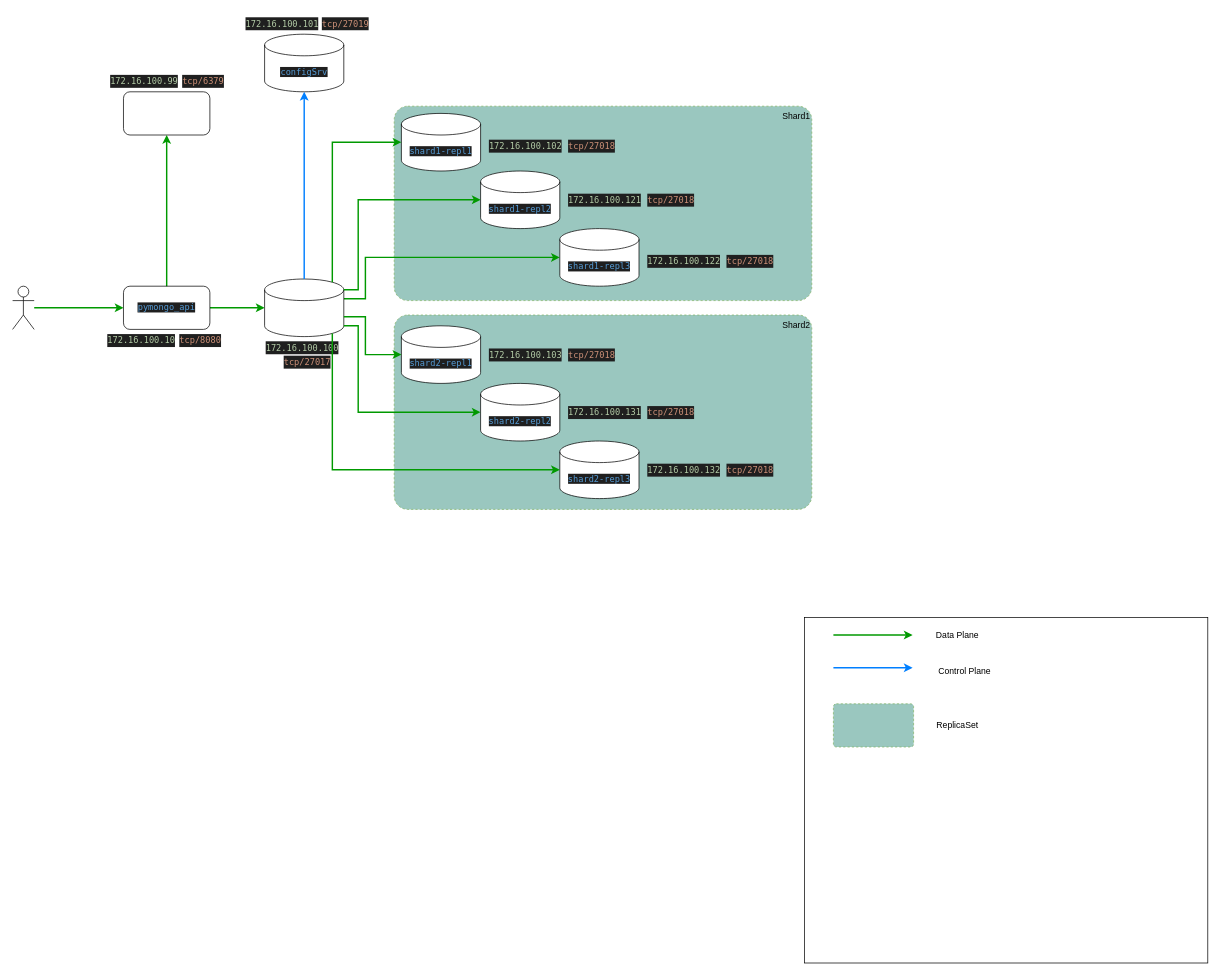
This 1220x976 diagram has some shape labels left out. Here are the shapes that lost their labels. From the top down, the centre of each, then its label:
At point (166, 113): "redis_singlenode".
At point (23, 307): "User".
At point (304, 307): "mongos_router".
At point (873, 725): "ShardN".
